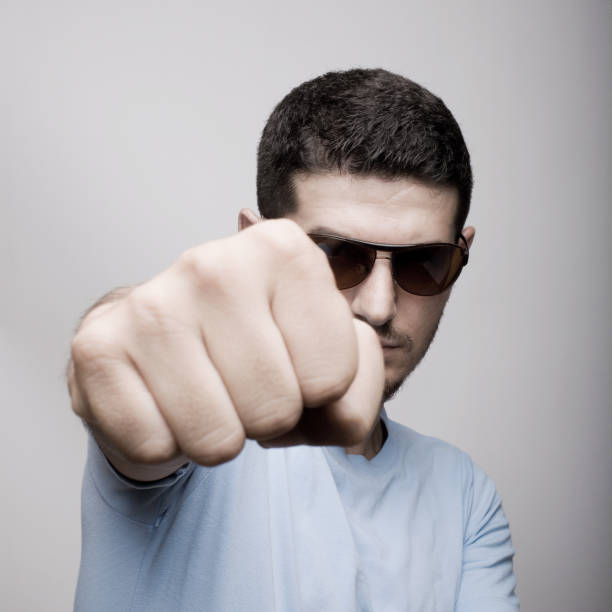Yes: (66, 219, 390, 483)
